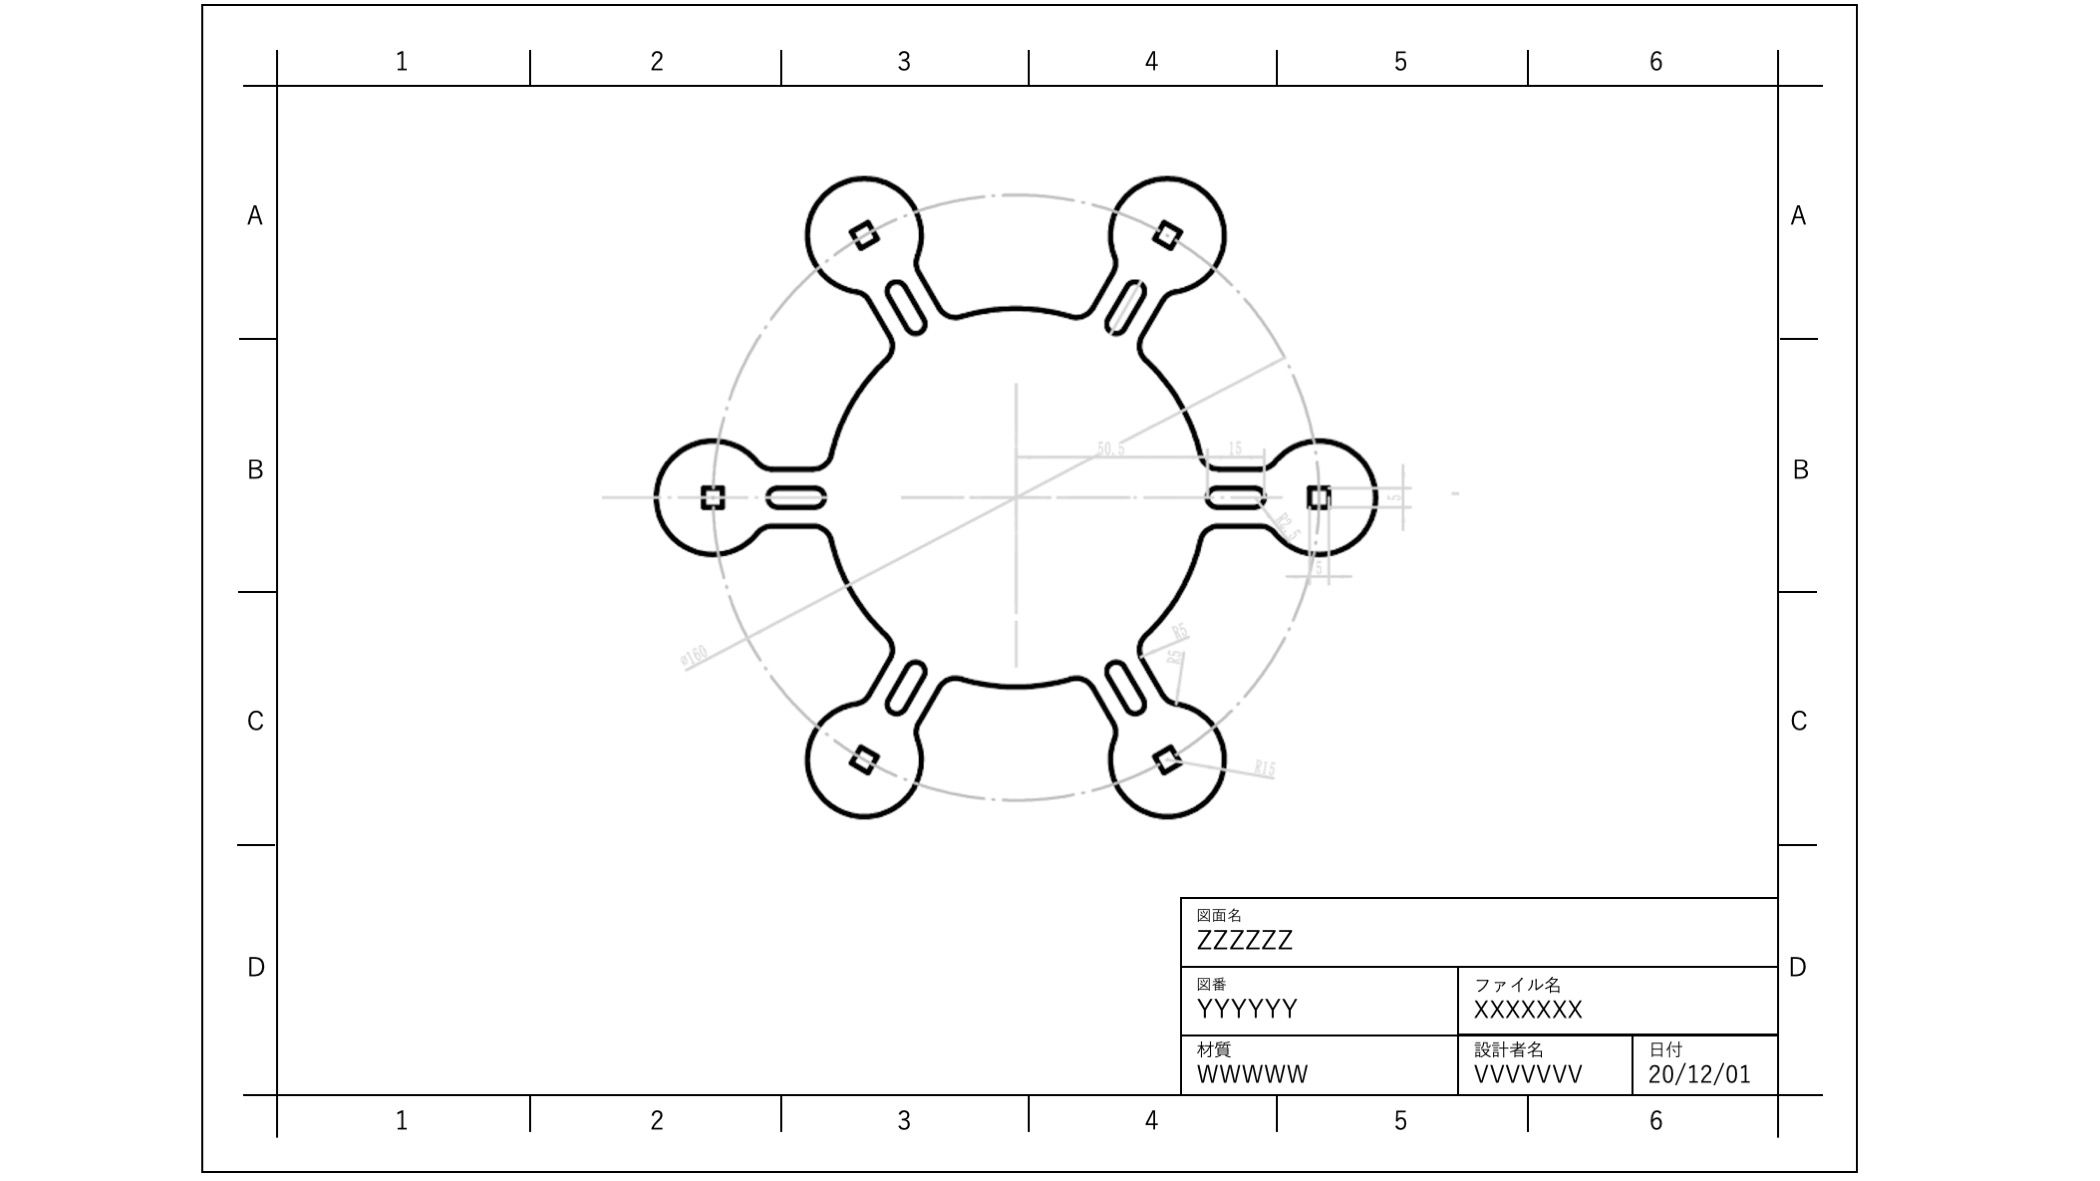rectangle: (1150, 208, 1194, 252), (1144, 735, 1184, 782), (1307, 469, 1338, 518), (692, 477, 736, 512), (847, 735, 881, 777), (850, 216, 878, 251)
round_rectangle: (1090, 653, 1158, 725), (883, 653, 940, 720), (1098, 274, 1150, 340), (754, 473, 841, 510), (878, 273, 930, 333), (1194, 474, 1272, 510)
